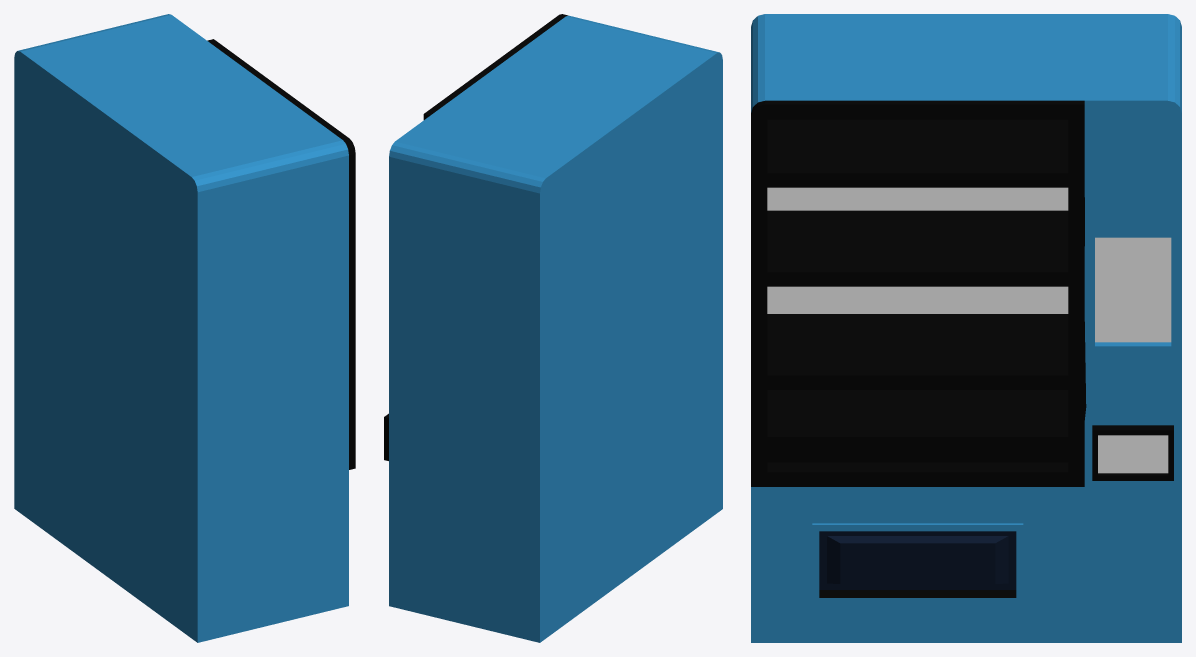
File: Vending.obj
The picture shows the model from 3 angles, left to right: view 1: azimuth 30°, elevation 25°; view 2: azimuth 150°, elevation 25°; view 3: azimuth 270°, elevation 25°; orthographic projection. The views are drawn at different scales.
Parts seen in each view (by area): view 1: vending_machine_Cube.001_Material.005, vending_machine_Cube.001_Material.008; view 2: vending_machine_Cube.001_Material.005, vending_machine_Cube.001_Material.008; view 3: vending_machine_Cube.001_Material.008, vending_machine_Cube.001_Material.005, vending_machine_Cube.001_Material.009, vending_machine_Cube.001_Material.007.
Boxes of the visible parts, box(x1,y1,x2,y2) form: vending_machine_Cube.001_Material.005: box(14, 14, 348, 642); vending_machine_Cube.001_Material.008: box(207, 39, 355, 469); vending_machine_Cube.001_Material.005: box(389, 15, 722, 642); vending_machine_Cube.001_Material.008: box(384, 14, 567, 460); vending_machine_Cube.001_Material.008: box(751, 100, 1173, 597); vending_machine_Cube.001_Material.005: box(751, 14, 1181, 642); vending_machine_Cube.001_Material.009: box(767, 187, 1171, 473); vending_machine_Cube.001_Material.007: box(819, 531, 1016, 589).
Size of the model in its own units: 2.11 by 5.83 by 4.2.
